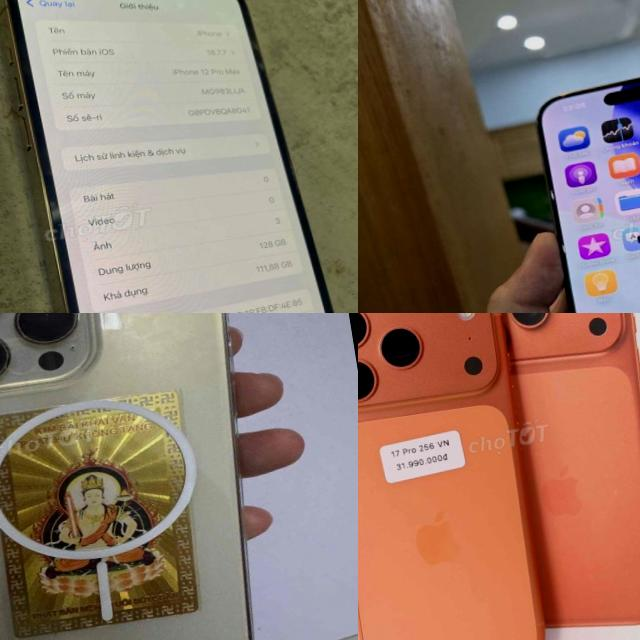gen_12_13: (0, 0, 352, 313)
gen_14: (0, 313, 302, 640)
gen_15: (522, 43, 640, 313)
gen_17: (358, 313, 574, 640)
